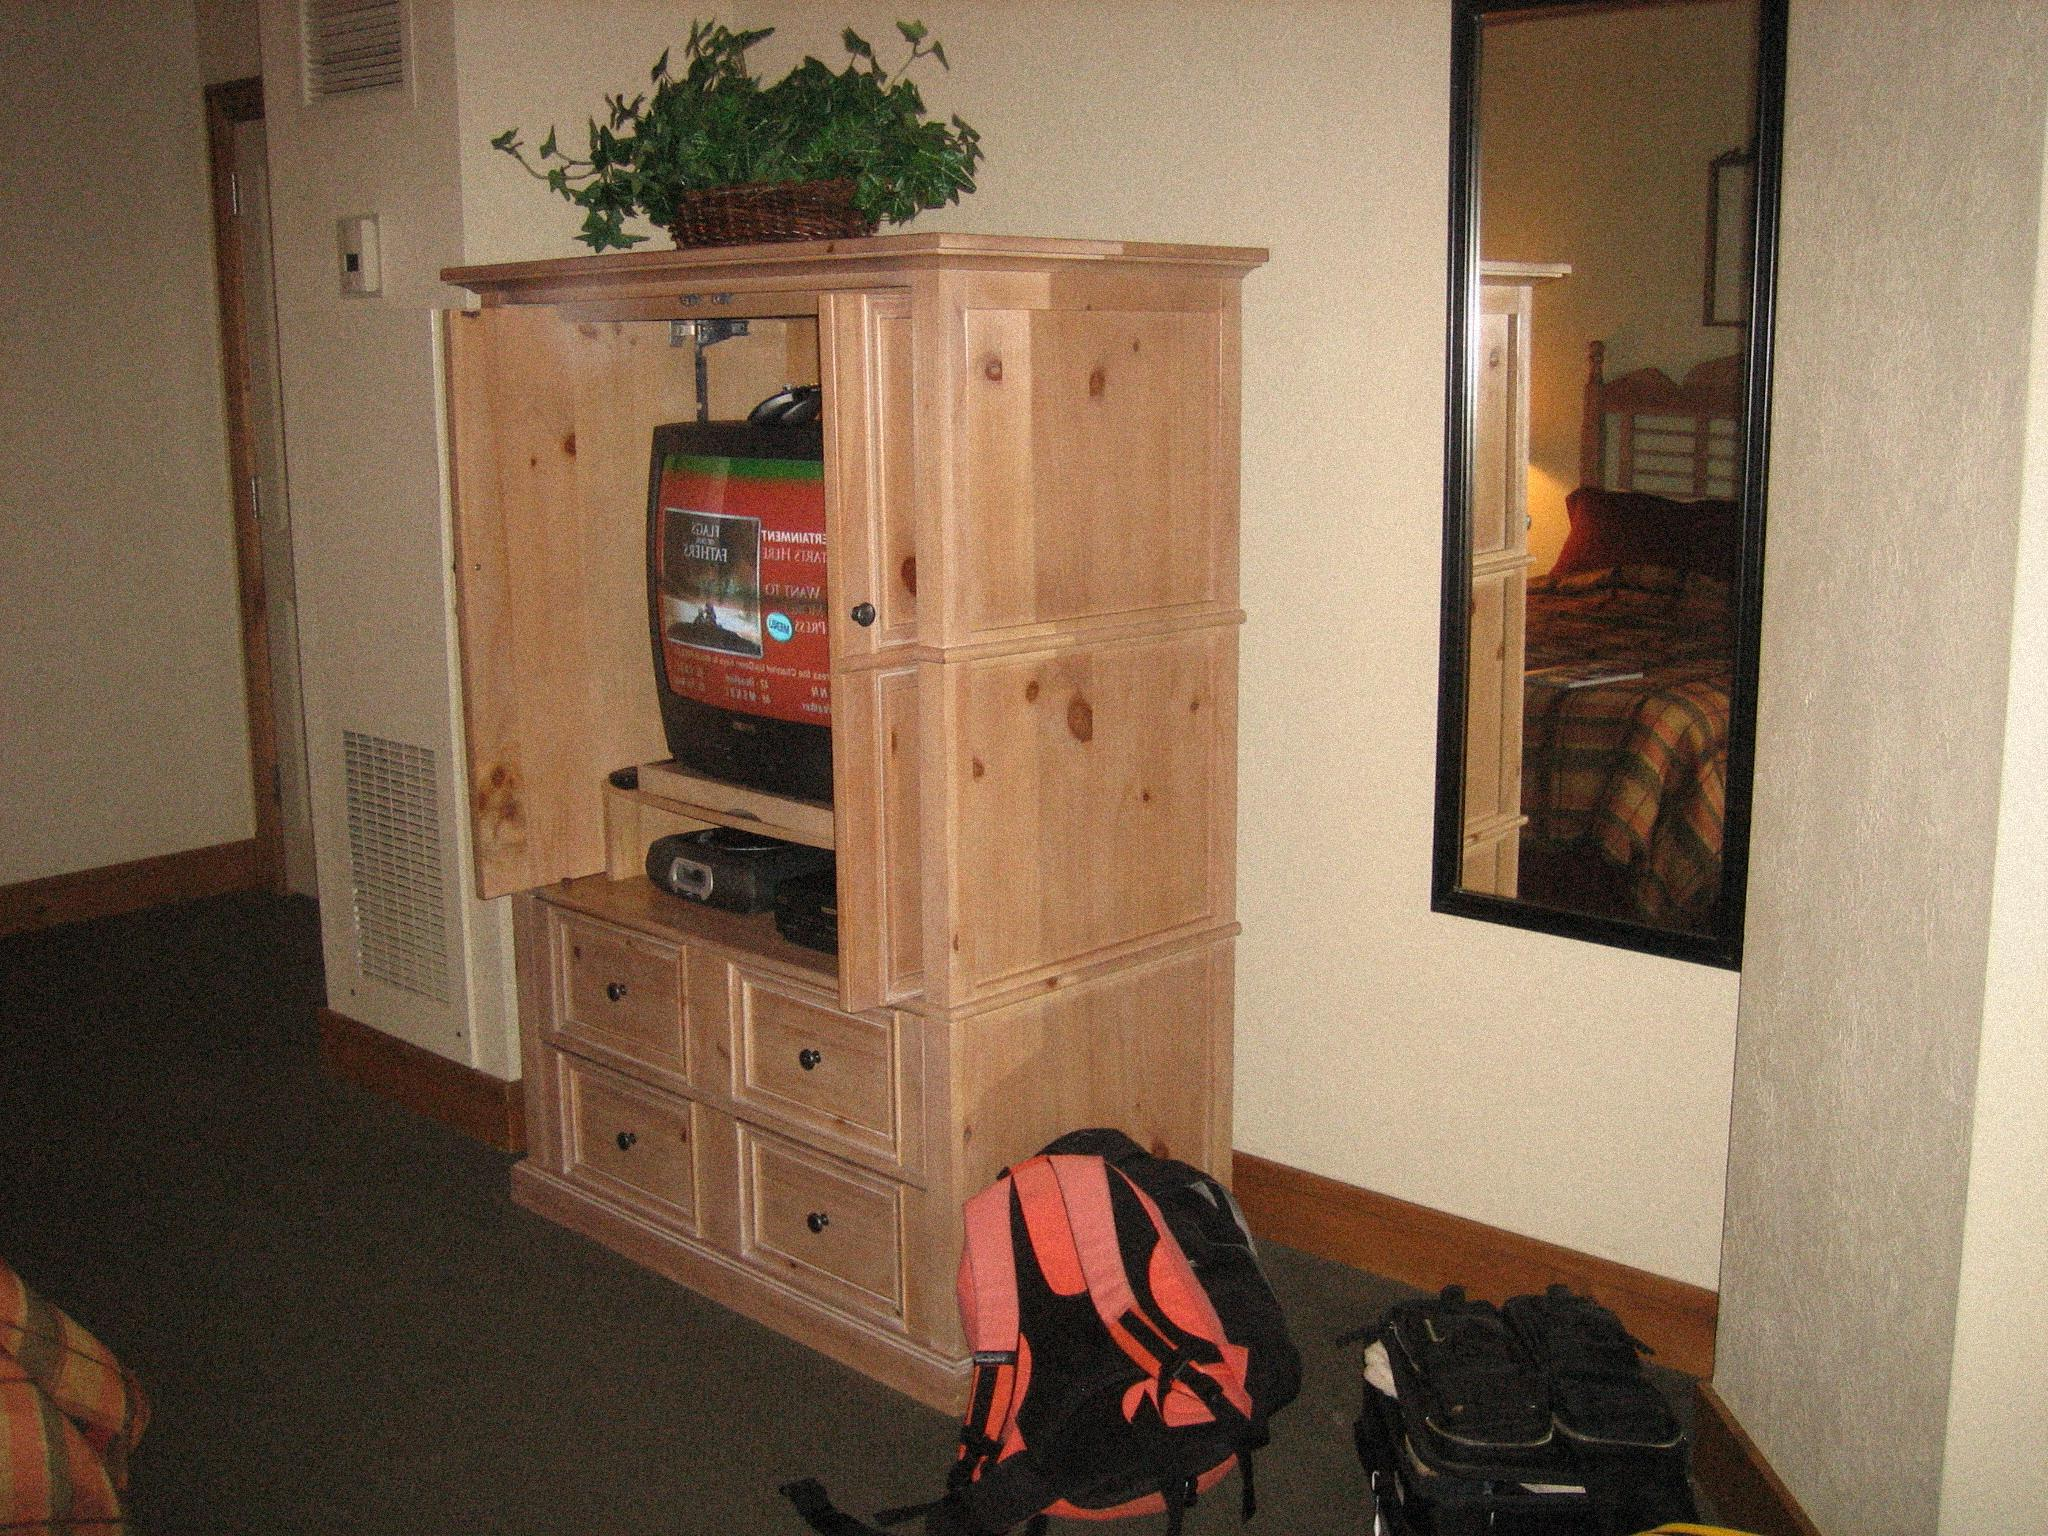Matera: (555, 55, 935, 281)
Otro Obstaculo: (919, 1154, 1300, 1509), (1343, 1262, 1671, 1530)
